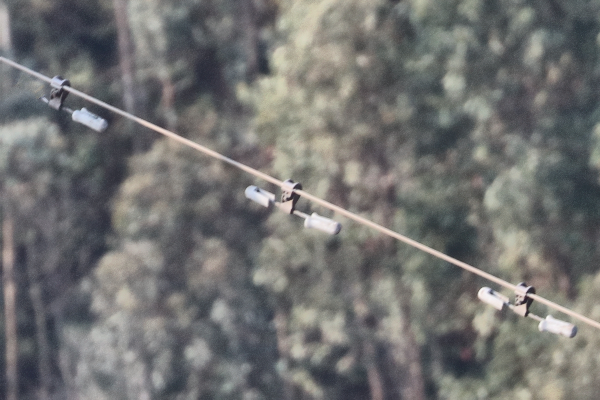damper: (470, 275, 580, 340), (238, 174, 344, 236)
damper_defect: (36, 73, 109, 134)
